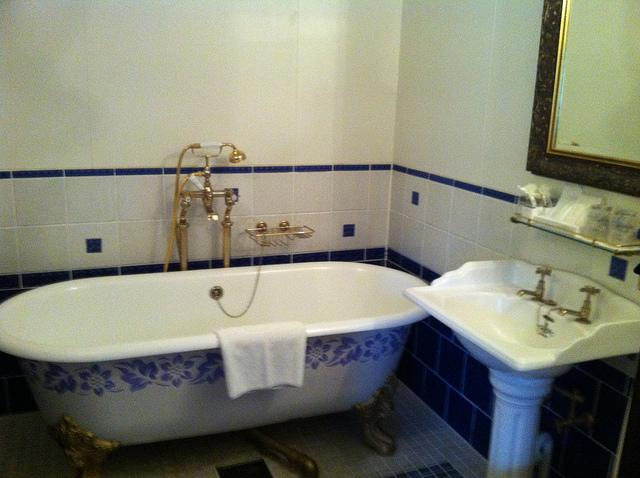Lavamanos: (401, 243, 639, 379)
